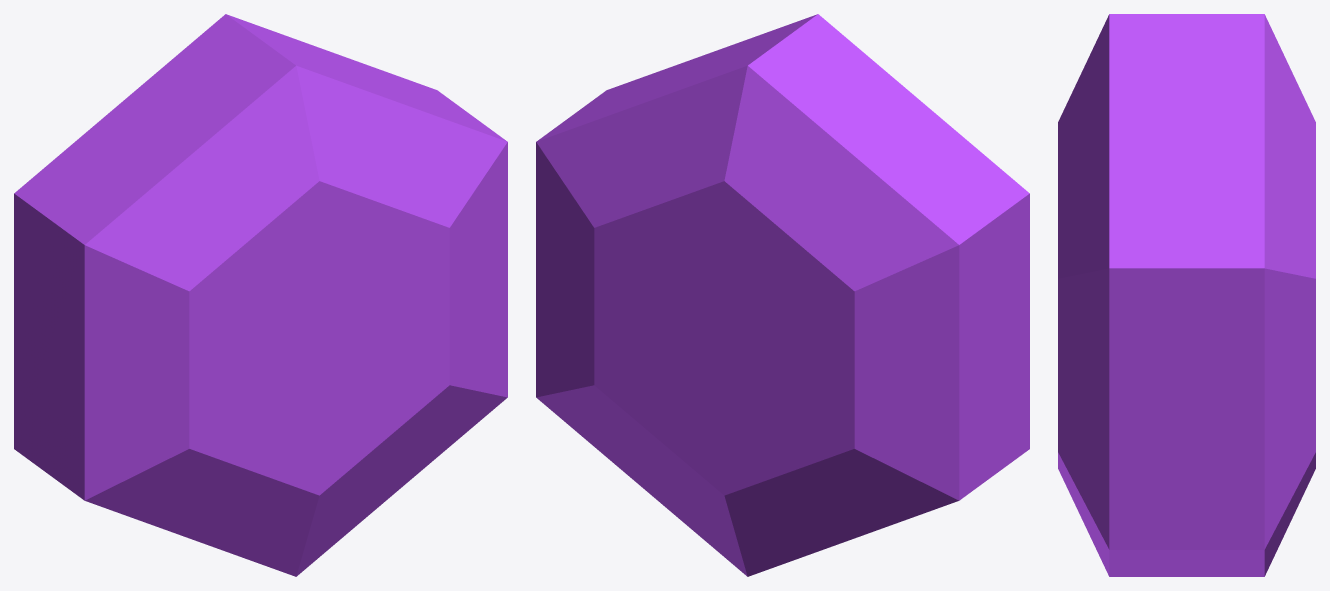
Rendered from Spawn_Gem.fbx.
3 renders of one model, left to right at view 1: azimuth 30°, elevation 25°; view 2: azimuth 150°, elevation 25°; view 3: azimuth 270°, elevation 25°, orthographic. The views are drawn at different scales.
Visible parts, largest first — view 1: Spawn_Gem; view 2: Spawn_Gem; view 3: Spawn_Gem.
Boxes of the visible parts, bbox=[...] form: Spawn_Gem: bbox=[14, 14, 507, 576]; Spawn_Gem: bbox=[536, 14, 1029, 576]; Spawn_Gem: bbox=[1058, 14, 1315, 576].
Size of the model in its own units: 1.73 by 0.8304 by 2.
